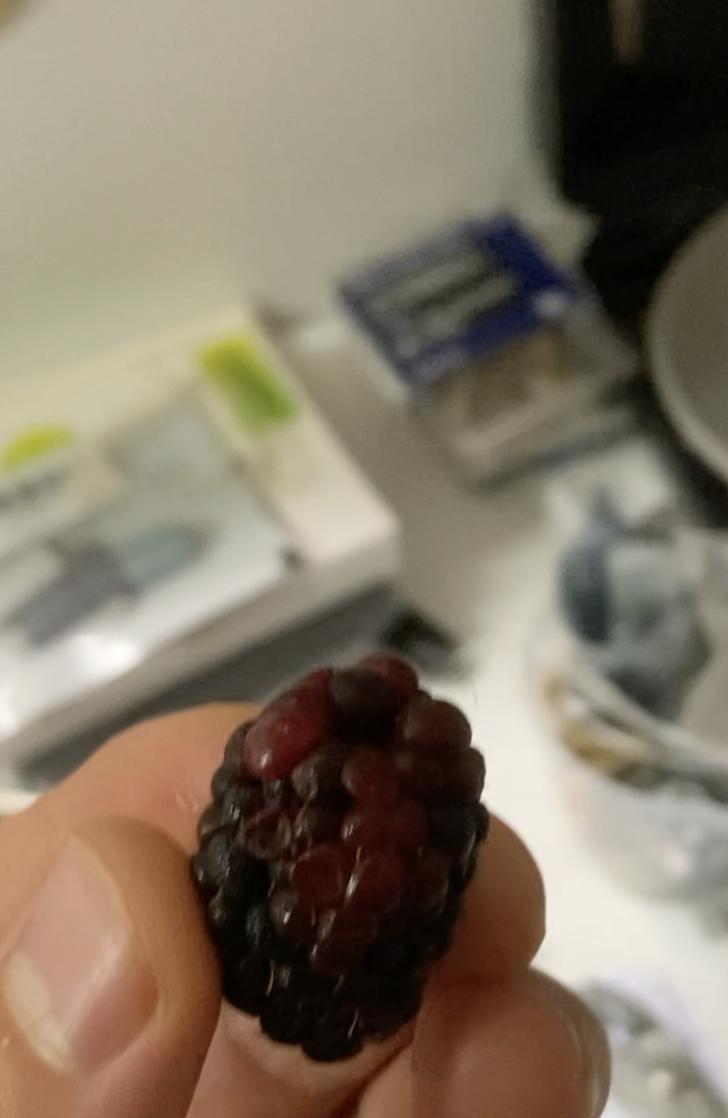berry: (191, 657, 488, 1062)
red drouplet: (241, 671, 334, 781), (343, 844, 405, 922), (396, 690, 470, 755), (292, 840, 352, 913), (341, 748, 400, 809), (317, 900, 376, 958), (355, 652, 418, 700), (379, 799, 428, 860), (340, 805, 388, 852)
